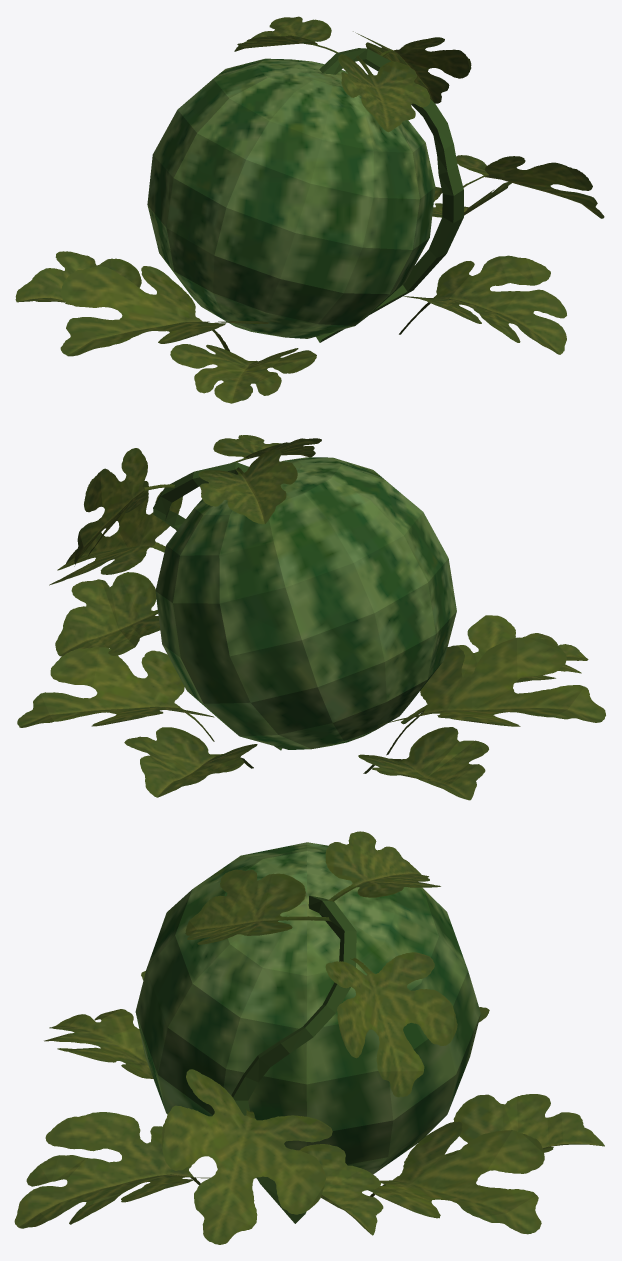
File: Watermelon_03.obj
3 views of the same model, one above another, from view 1: azimuth 30°, elevation 25°; view 2: azimuth 150°, elevation 25°; view 3: azimuth 270°, elevation 25° (orthographic). The views are drawn at different scales.
Bounding box in the file's own units: 1.58 × 0.8566 × 1.28.
1 material, 1 textured.
